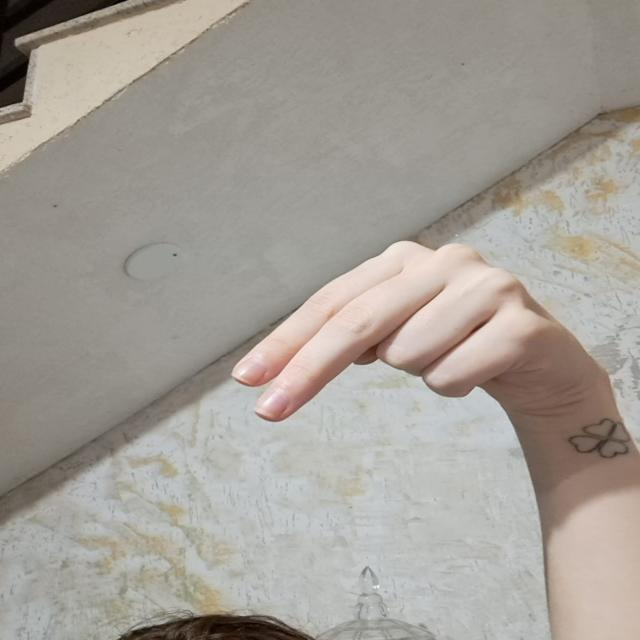N: (219, 228, 549, 428)
